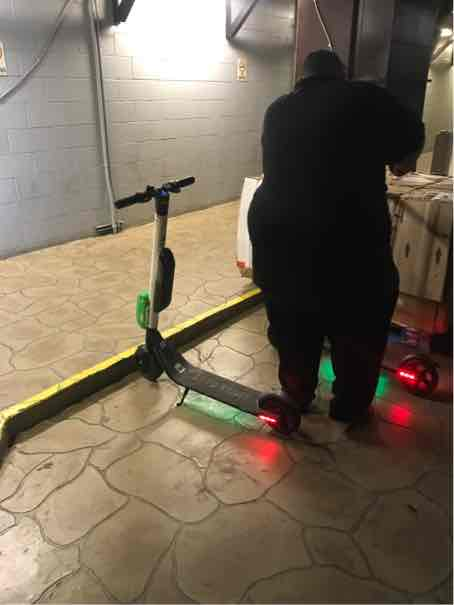scooter: (114, 163, 305, 453)
